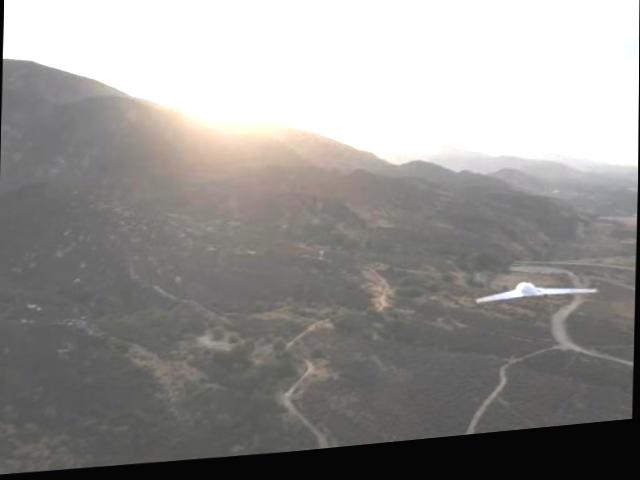iha: (470, 277, 601, 328)
